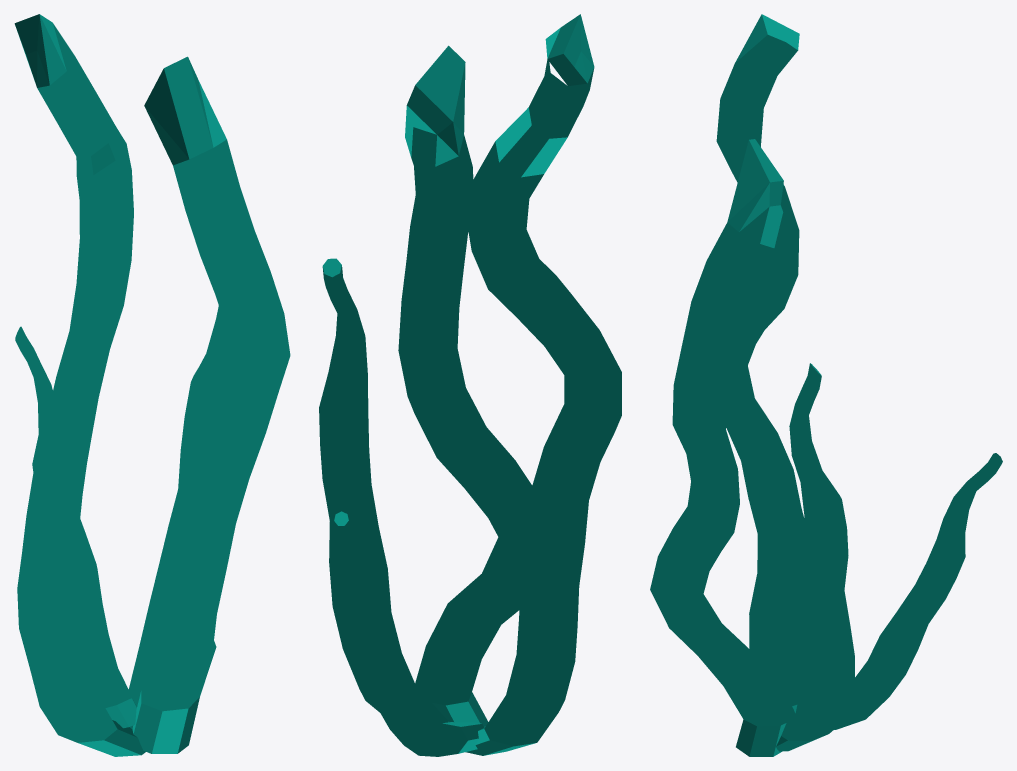
File: Seaweed.glb
3 renders of one model, left to right at view 1: azimuth 30°, elevation 25°; view 2: azimuth 150°, elevation 25°; view 3: azimuth 270°, elevation 25°, orthographic. The views are drawn at different scales.
Visible parts, largest first — view 1: Node; view 2: Node; view 3: Node.
Part boxes in pixels (left/top/right/bottom): Node: left=14, top=14, right=290, bottom=756; Node: left=319, top=14, right=621, bottom=756; Node: left=650, top=14, right=1002, bottom=756.
Size of the model in its own units: 0.2797 by 0.8166 by 0.3837.
